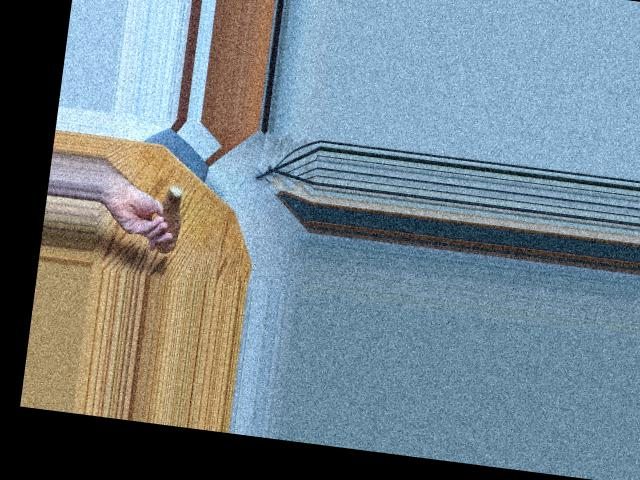sweet_potato: (149, 182, 186, 256)
